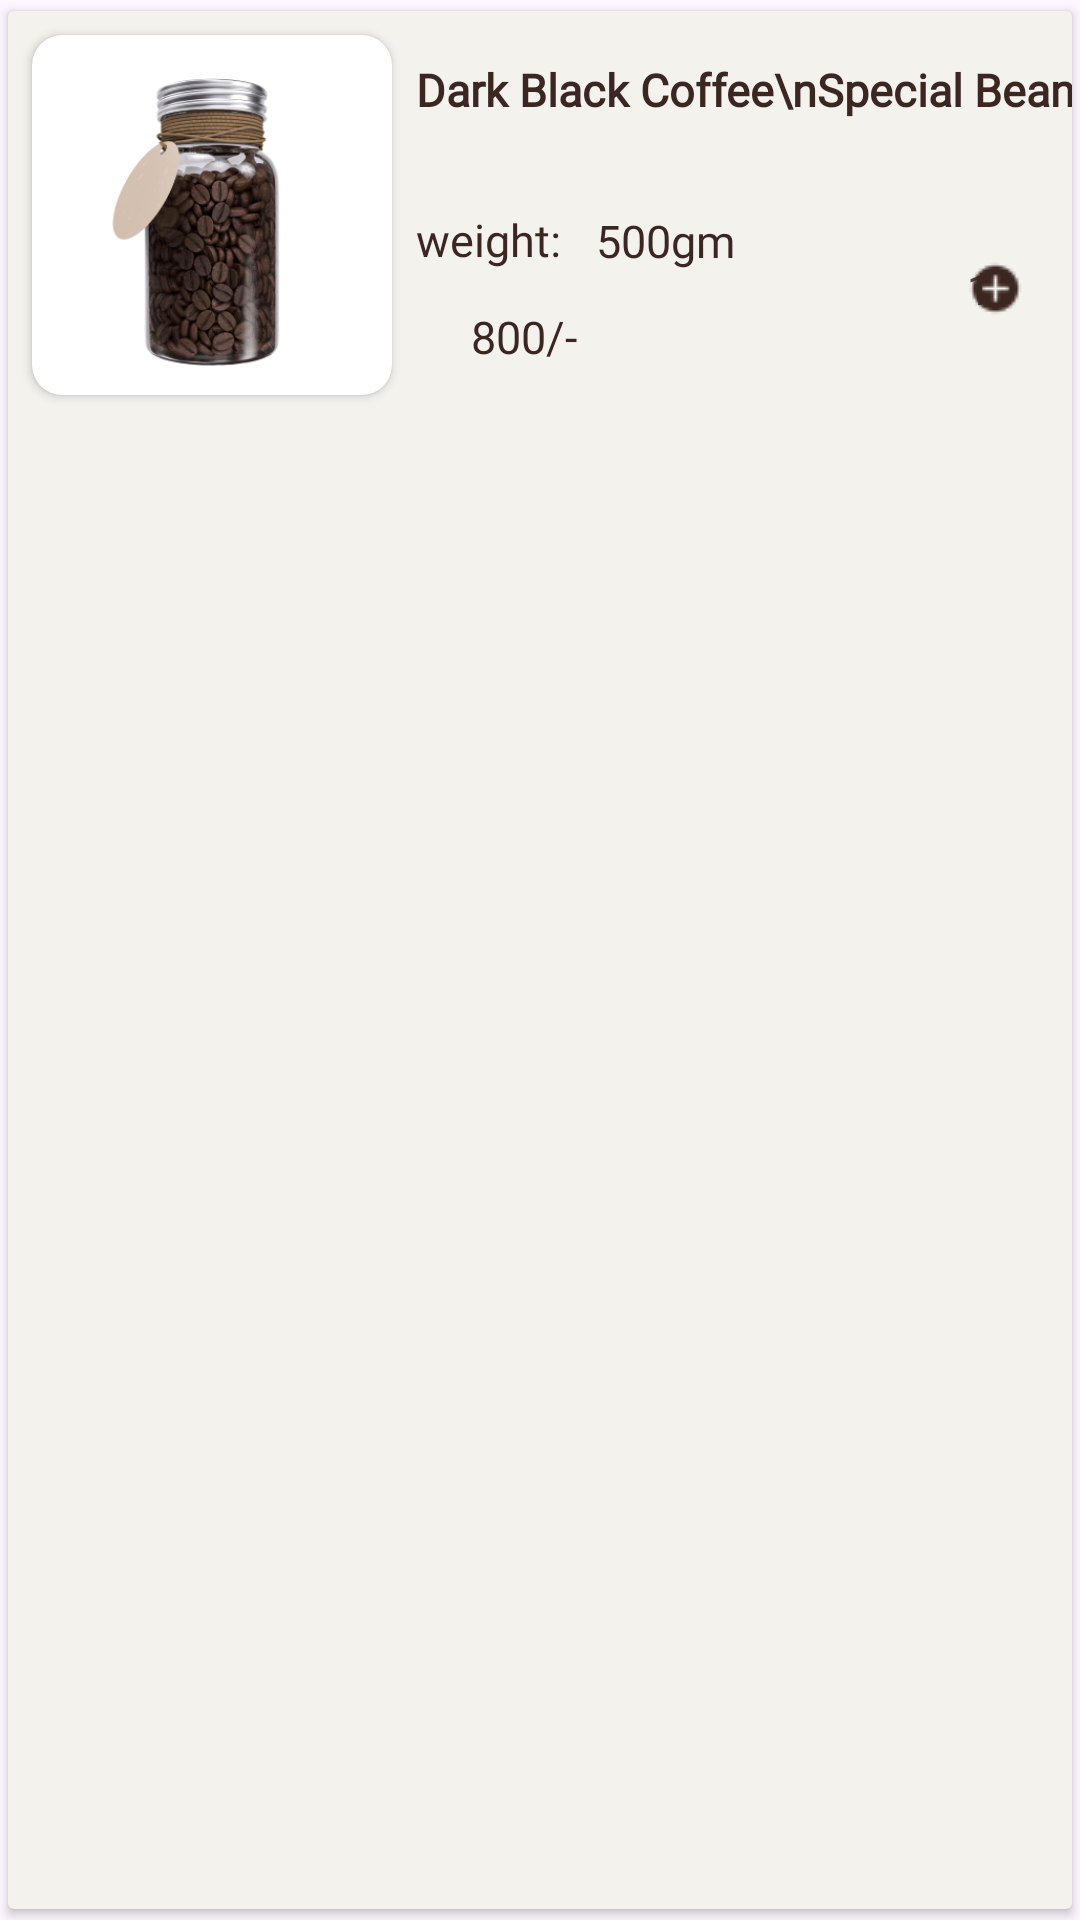

Named icons in this screenshot (1080px×1920px) and their bounding boxes, region(x1, y1, x2, y2):
plis: region(970, 264, 1019, 313)
